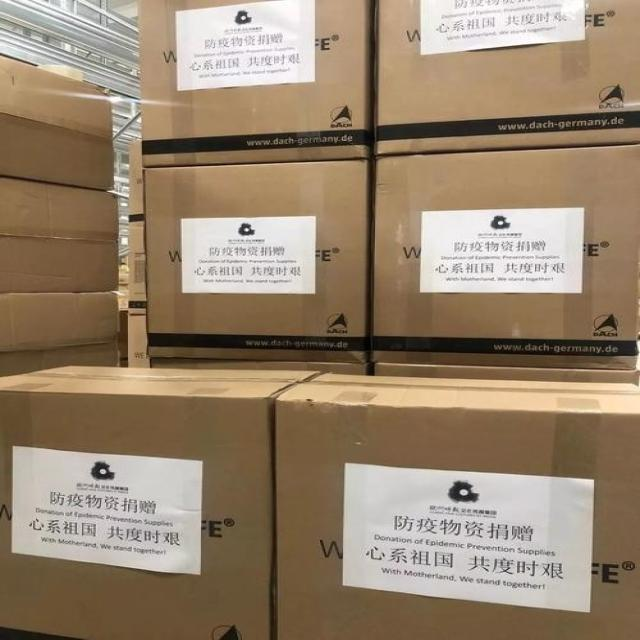box: (270, 371, 639, 639), (0, 365, 315, 639), (370, 145, 639, 367), (142, 159, 371, 362), (375, 1, 639, 157), (136, 1, 373, 165), (0, 59, 115, 191), (0, 182, 119, 292), (0, 292, 120, 353), (370, 362, 639, 383), (151, 356, 373, 375), (0, 344, 117, 377)
